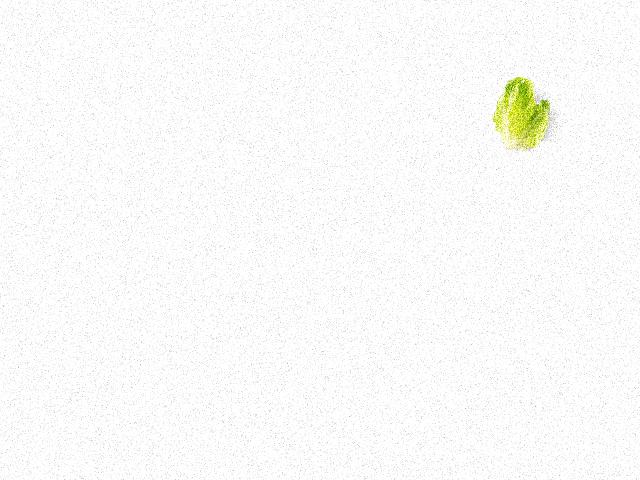lettuce: (490, 72, 551, 159)
